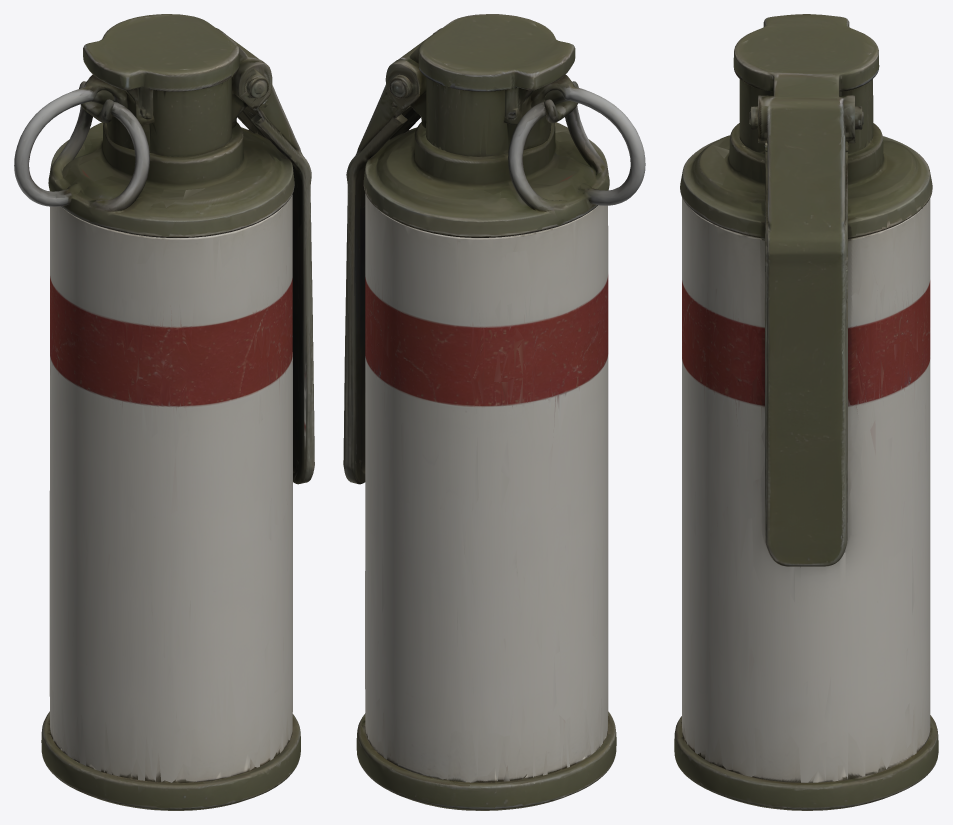
Rendered from Asset_06_LOD0.fbx.
3 views of the same model, side by side, from view 1: azimuth 30°, elevation 25°; view 2: azimuth 150°, elevation 25°; view 3: azimuth 270°, elevation 25° (orthographic).
Parts seen in each view (by area): view 1: Asset_06_LOD0; view 2: Asset_06_LOD0; view 3: Asset_06_LOD0.
Boxes of the visible parts, bbox=[...] form: Asset_06_LOD0: bbox=[14, 14, 314, 810]; Asset_06_LOD0: bbox=[343, 14, 645, 810]; Asset_06_LOD0: bbox=[674, 14, 938, 810].
Size of the model in its own units: 0.0596 by 0.145 by 0.0488.
1 material, 1 textured.
